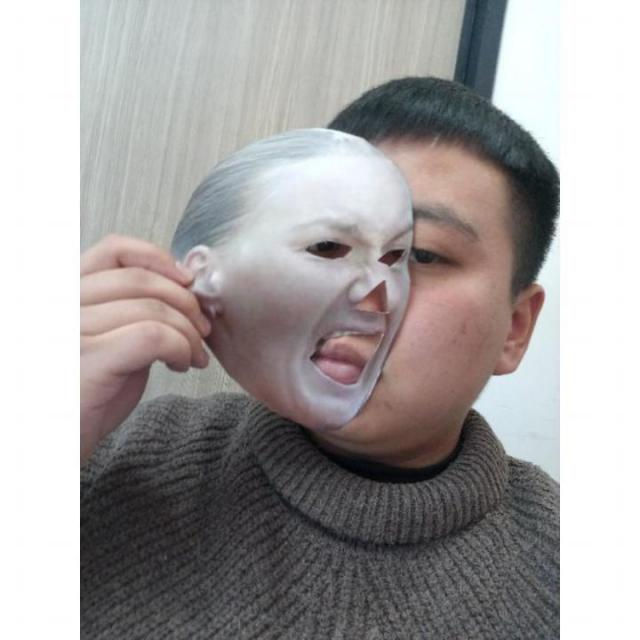mask: (172, 127, 416, 435)
